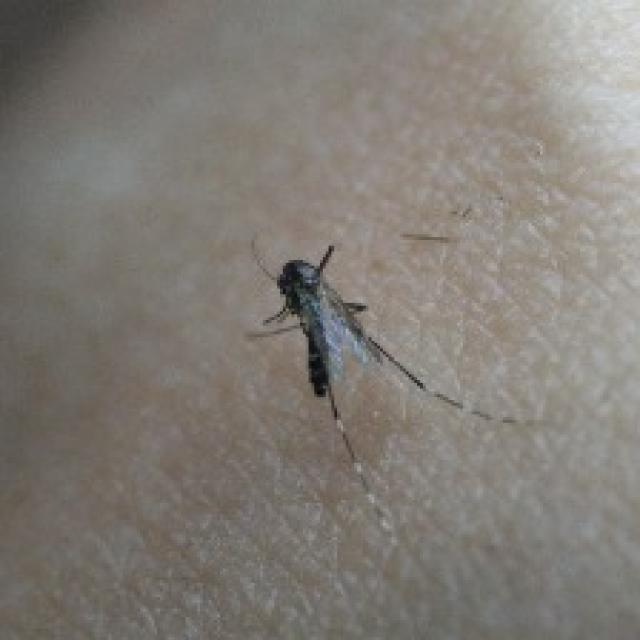aedes: (194, 192, 552, 497)
